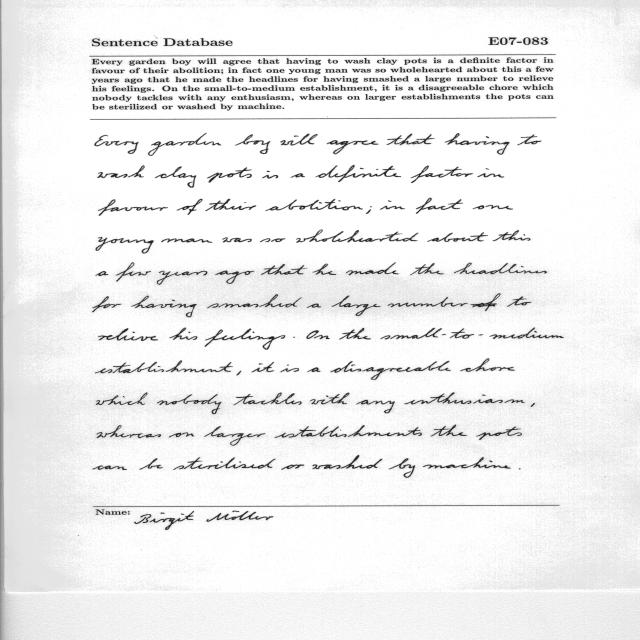word: (330, 361, 451, 380), (380, 328, 564, 339), (275, 425, 422, 438), (95, 361, 233, 374), (205, 329, 285, 350), (148, 133, 221, 156), (296, 230, 419, 243), (315, 165, 401, 182), (404, 393, 525, 405), (445, 133, 510, 155), (131, 296, 197, 317), (207, 294, 302, 308), (174, 457, 276, 470), (157, 394, 222, 414), (265, 199, 363, 211), (205, 426, 266, 445), (98, 200, 168, 216), (410, 166, 473, 183), (332, 295, 381, 316), (454, 263, 547, 274), (313, 455, 382, 469), (423, 457, 510, 468), (96, 237, 154, 253), (155, 167, 196, 188), (95, 135, 139, 154), (97, 425, 161, 438), (234, 393, 302, 405), (388, 297, 468, 307), (327, 140, 379, 155), (98, 328, 158, 341), (460, 358, 515, 372), (416, 198, 463, 214), (207, 167, 252, 183), (235, 134, 270, 154), (157, 271, 207, 285), (346, 263, 399, 276), (116, 263, 151, 282), (205, 199, 256, 211), (96, 393, 147, 405), (98, 165, 145, 178), (427, 232, 488, 242), (476, 427, 522, 440), (215, 270, 254, 284), (386, 134, 435, 145), (389, 458, 415, 478), (471, 294, 501, 311), (356, 400, 395, 413), (261, 264, 306, 275), (93, 296, 122, 312), (280, 134, 318, 146), (310, 393, 350, 404), (431, 425, 467, 437), (493, 230, 531, 241), (177, 199, 203, 215), (410, 263, 444, 275), (170, 327, 198, 340), (339, 328, 371, 339), (139, 458, 163, 470), (477, 168, 504, 178), (518, 135, 542, 146), (507, 296, 531, 307), (161, 238, 213, 243), (313, 264, 336, 275), (380, 200, 405, 210), (252, 362, 274, 372), (307, 330, 330, 339), (473, 205, 513, 210), (222, 238, 252, 243), (281, 464, 304, 470), (93, 466, 127, 470), (280, 365, 299, 372), (262, 171, 278, 179), (169, 433, 194, 438), (260, 238, 285, 242), (290, 173, 305, 178), (307, 303, 321, 308), (308, 367, 321, 372), (96, 271, 108, 276), (366, 206, 371, 214), (237, 371, 241, 376), (531, 403, 535, 407), (293, 337, 295, 338), (519, 469, 521, 470)
